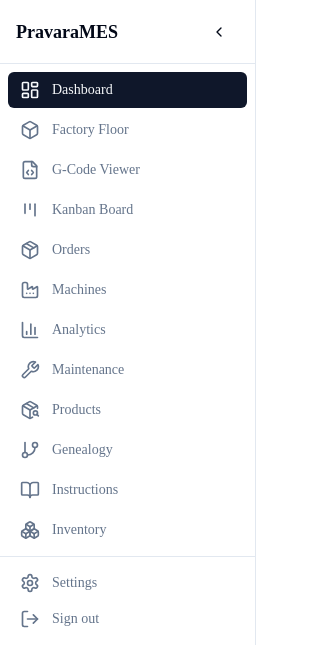
Scenario: Sidebar › expands sidebar when expand button is clicked
Click the button named "Collapse sidebar" at (219, 32), box [199, 12, 239, 52]
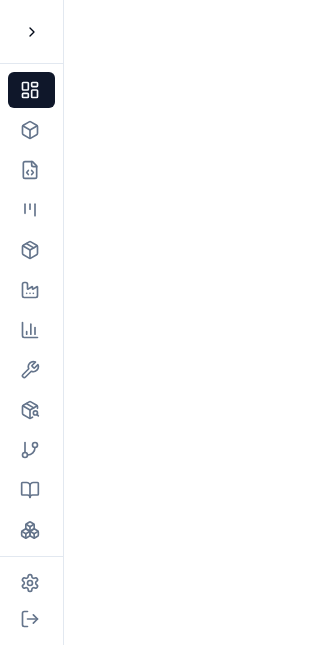
Click the button named "Expand sidebar" at (32, 32), box [16, 12, 47, 52]
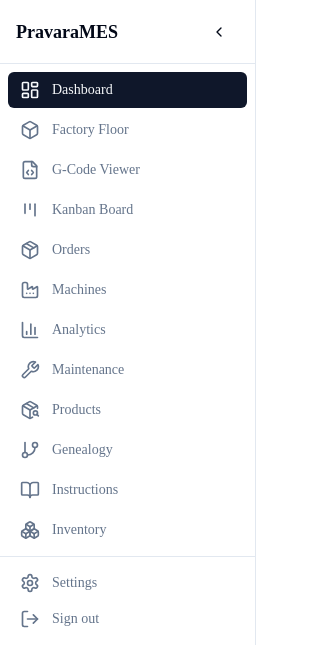
Now the text "PravaraMES" is shown, box [16, 18, 118, 46]
